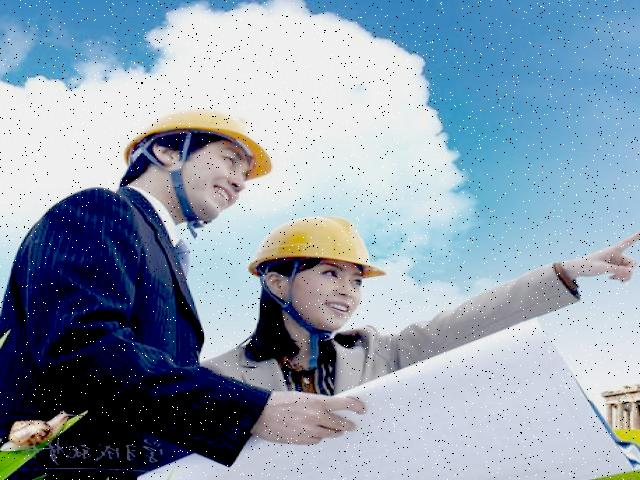Helmet: (120, 102, 279, 187), (246, 212, 394, 284)
